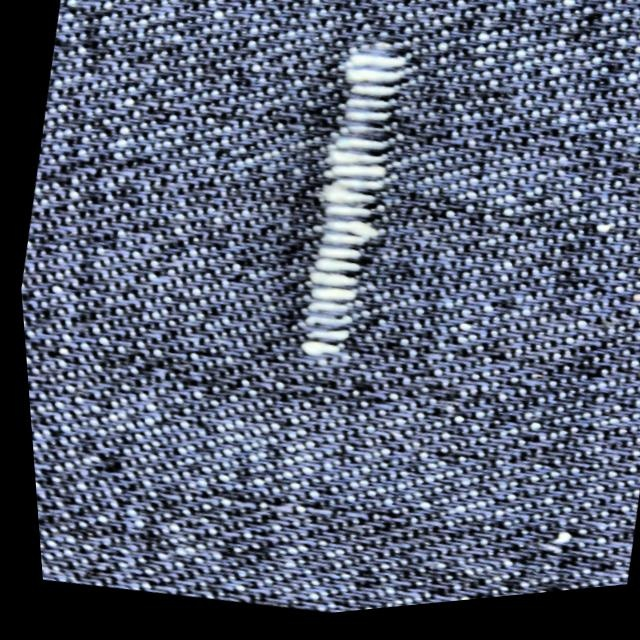Hole: (246, 242, 408, 388), (286, 19, 443, 152), (269, 130, 426, 253)
